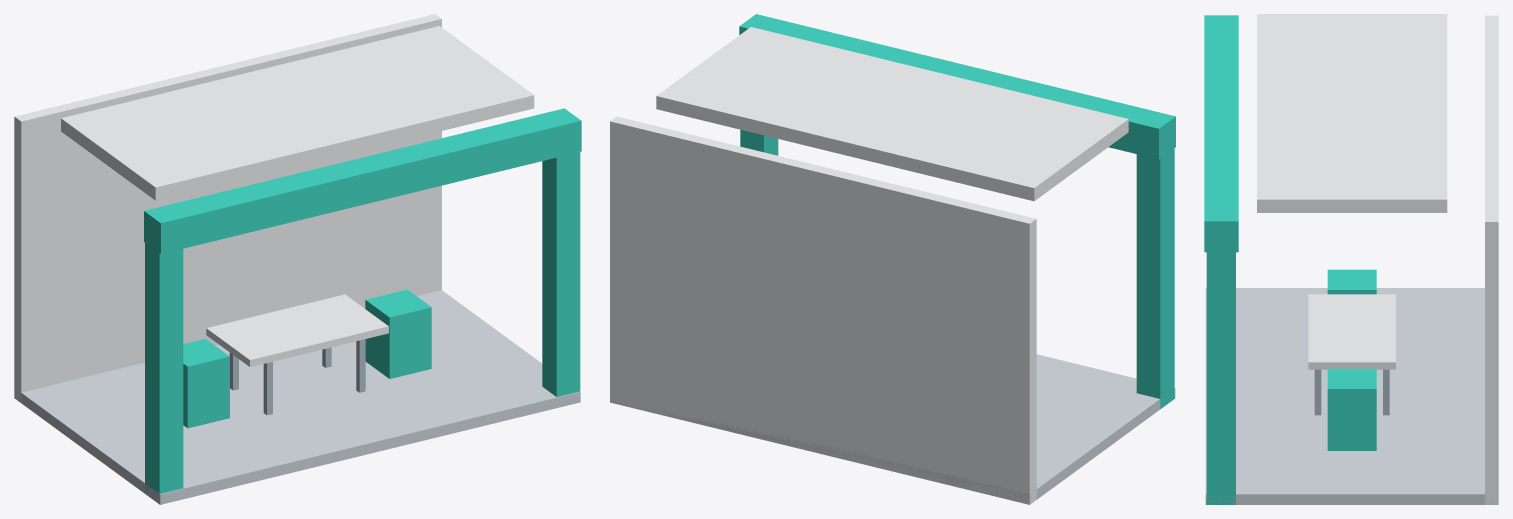
The picture shows the model from 3 angles, left to right: view 1: azimuth 30°, elevation 25°; view 2: azimuth 150°, elevation 25°; view 3: azimuth 270°, elevation 25°; orthographic projection.
Visible parts, largest first — view 1: Exhibition Booth Concept; view 2: Exhibition Booth Concept; view 3: Exhibition Booth Concept.
Boxes of the visible parts, <box> form: Exhibition Booth Concept: <box>14,14,581,504</box>; Exhibition Booth Concept: <box>610,14,1175,504</box>; Exhibition Booth Concept: <box>1204,14,1498,504</box>.
Size of the model in its own units: 5 by 3.34 by 3.01.
